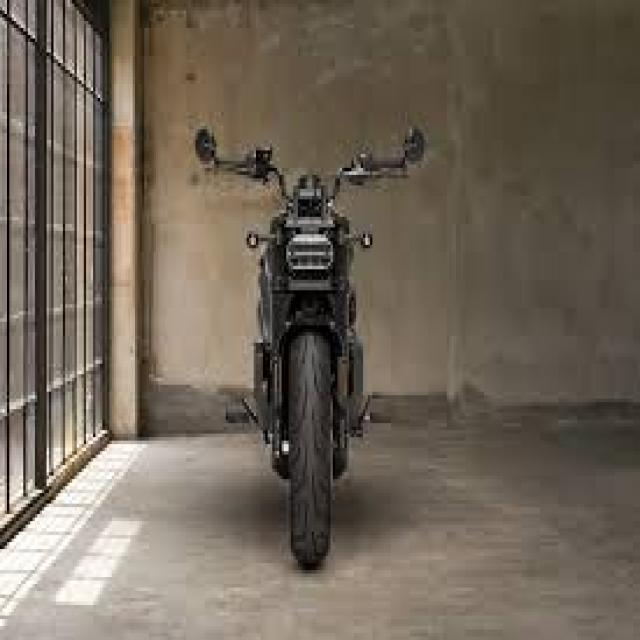Bike: (198, 128, 434, 566)
